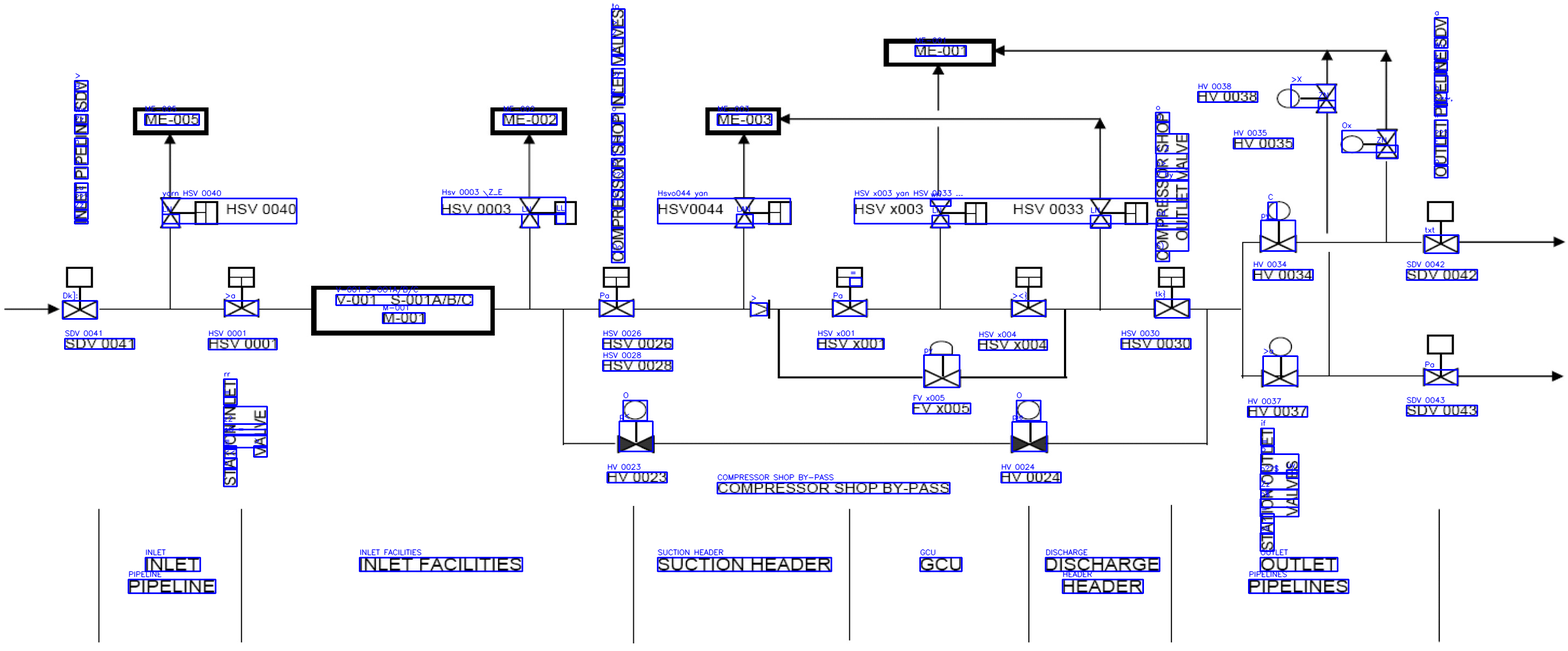Válvula: (611, 394, 661, 459), (729, 191, 799, 232), (511, 194, 584, 233), (1272, 79, 1341, 119), (1418, 330, 1461, 392), (1256, 199, 1301, 257), (828, 260, 871, 320), (58, 263, 102, 321), (595, 263, 639, 321), (1008, 399, 1052, 457), (1257, 333, 1301, 391), (1151, 261, 1193, 321), (154, 194, 221, 231), (1420, 197, 1461, 257), (1008, 263, 1050, 320), (1088, 195, 1152, 232), (222, 262, 261, 321), (1336, 126, 1403, 160), (918, 339, 964, 388), (928, 197, 989, 232)
